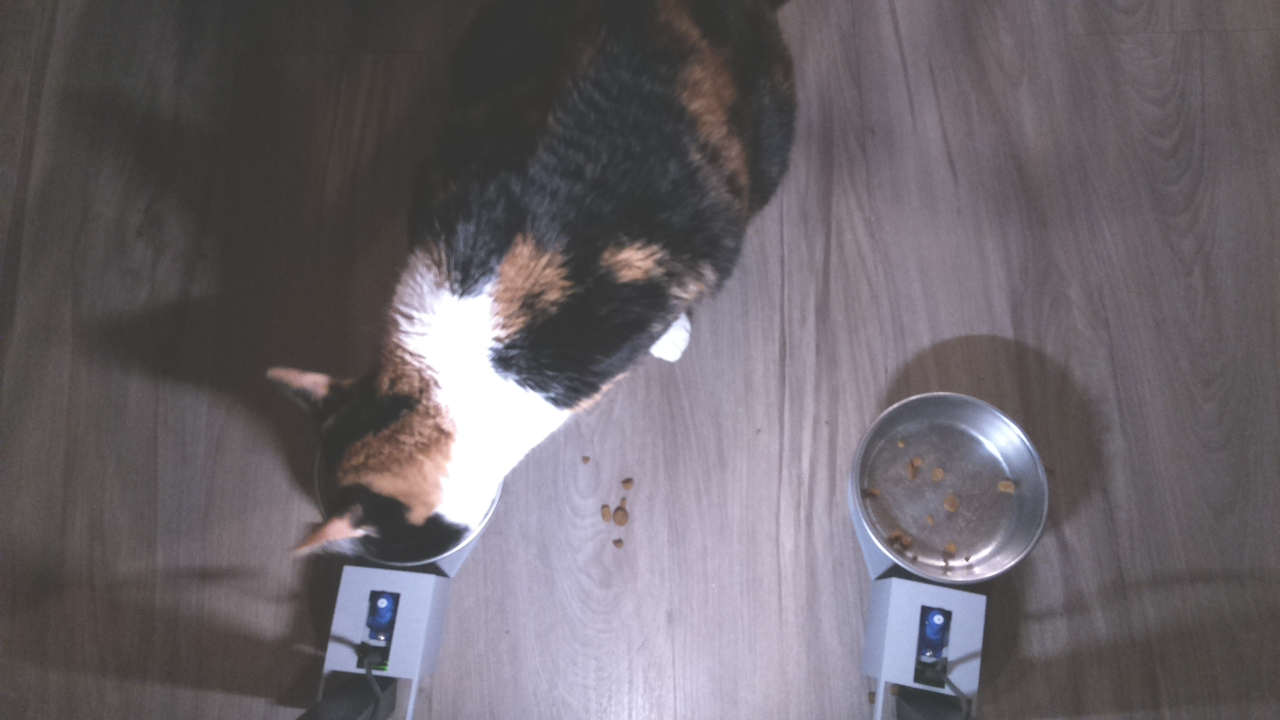bella_eating: (252, 282, 582, 587)
open_bowl: (851, 387, 1052, 589)
